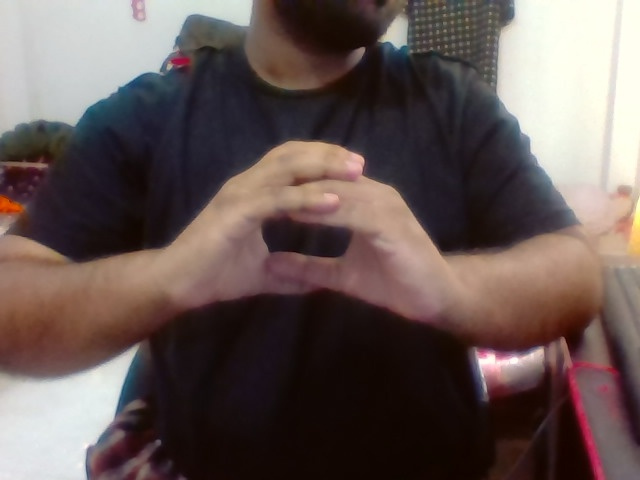O: (210, 122, 444, 340)
